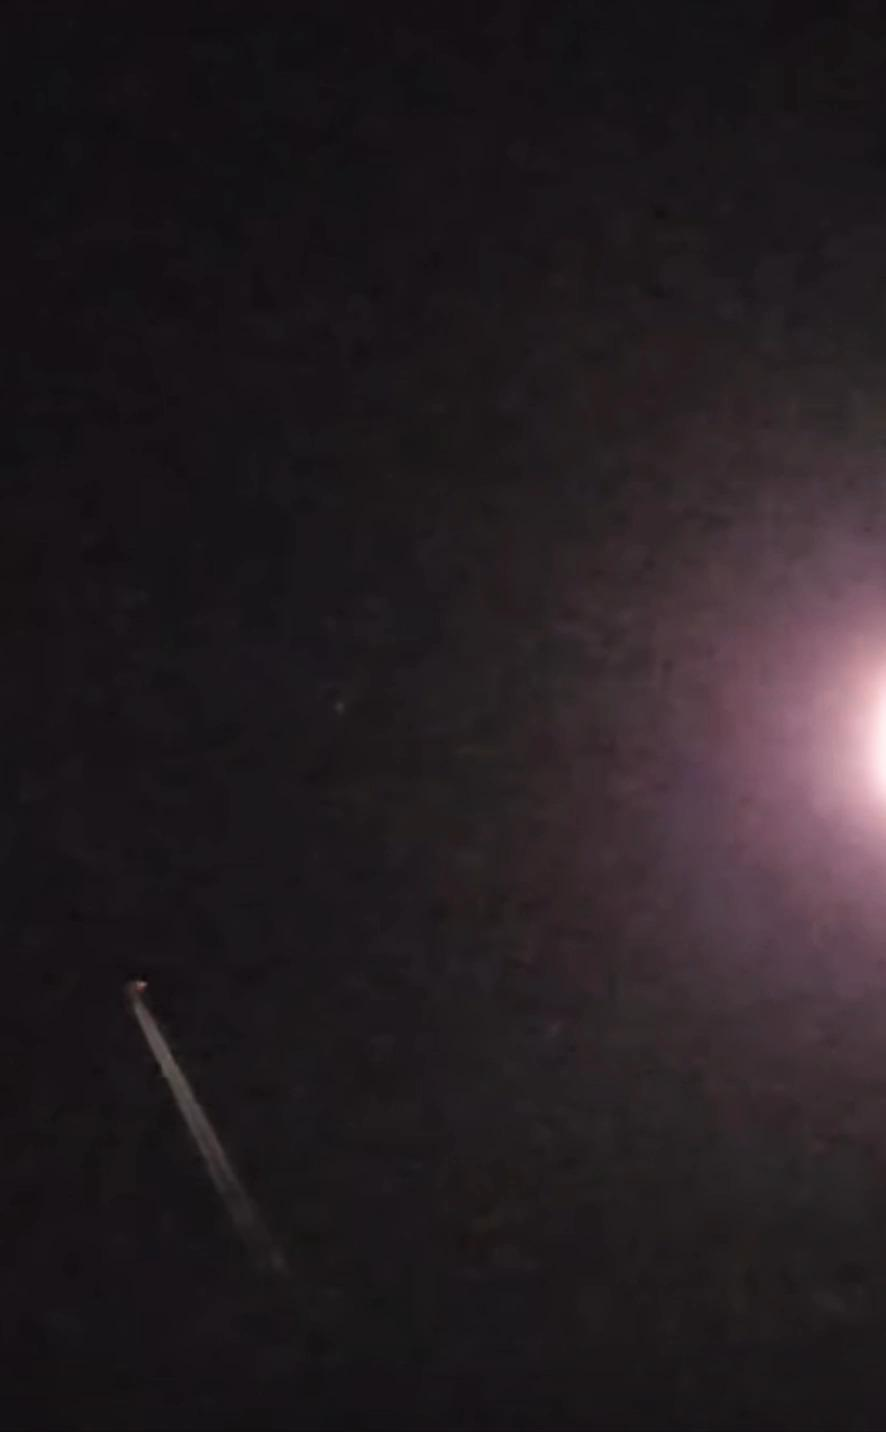Plane: (89, 966, 260, 1153)
